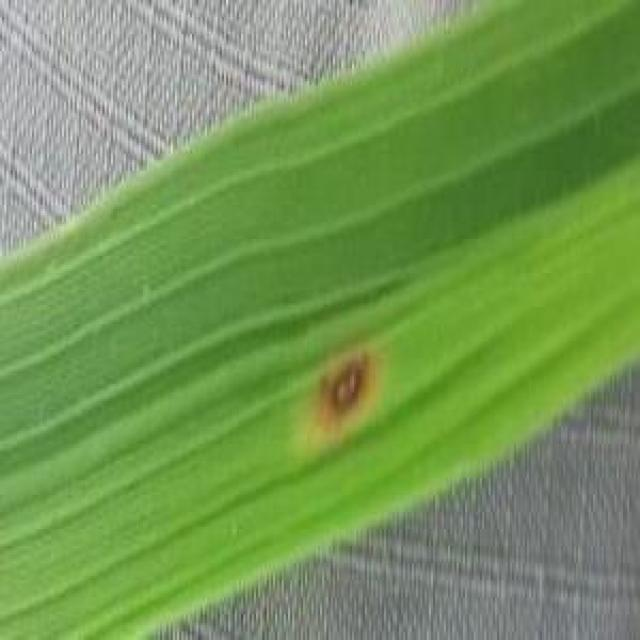brownspots: (305, 358, 388, 422)
